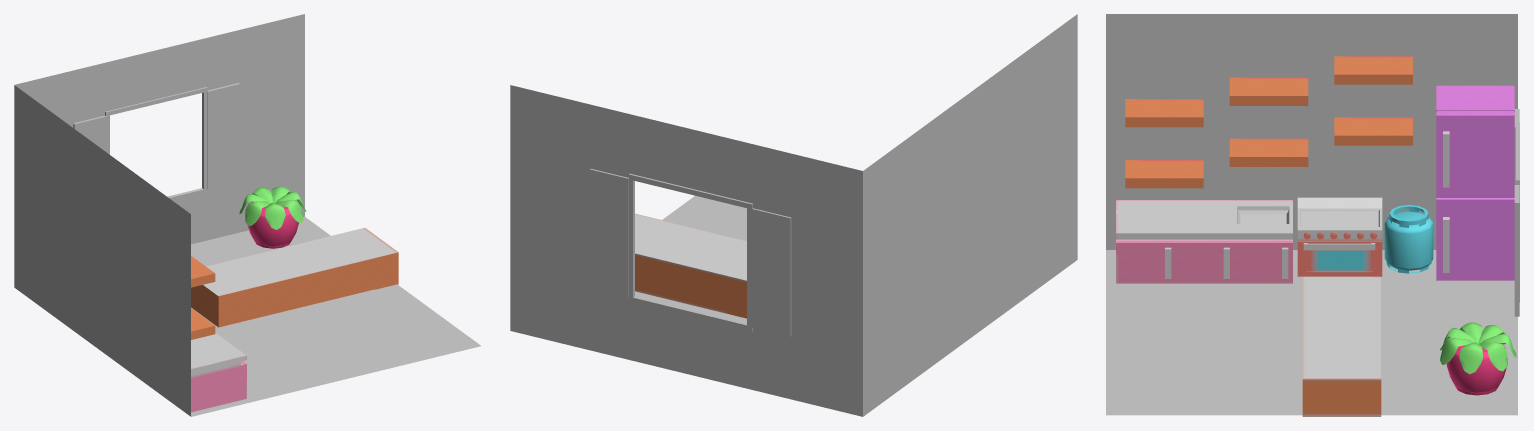
File: Cenário_final.fbx
The picture shows the model from 3 angles, left to right: view 1: azimuth 30°, elevation 25°; view 2: azimuth 150°, elevation 25°; view 3: azimuth 270°, elevation 25°; orthographic projection. The views are drawn at different scales.
Parts seen in each view (by area): view 1: Chão, esteira, Tapete, Portas, quadro, pia, Planta, janela, Vaso, Prateiras; view 2: Chão, Portas, esteira, janela, Tapete; view 3: Chão, Tapete, Geladeira, pia, Prateiras, esteira, Fogão, Gaz, Planta, Fogão tampa, Vaso, Portas (+4 smaller).
Boxes of the visible parts, left/top/right/bottom form: Chão: left=14, top=14, right=480, bottom=416; esteira: left=191, top=227, right=398, bottom=327; Tapete: left=191, top=238, right=435, bottom=380; Portas: left=73, top=83, right=239, bottom=189; quadro: left=253, top=70, right=289, bottom=177; pia: left=191, top=333, right=246, bottom=412; Planta: left=239, top=186, right=306, bottom=229; janela: left=105, top=87, right=207, bottom=200; Vaso: left=247, top=201, right=298, bottom=248; Prateiras: left=191, top=256, right=215, bottom=339; Chão: left=510, top=14, right=1077, bottom=416; Portas: left=589, top=168, right=791, bottom=336; esteira: left=635, top=213, right=746, bottom=318; janela: left=629, top=173, right=752, bottom=331; Tapete: left=635, top=202, right=746, bottom=323; Chão: left=1106, top=14, right=1517, bottom=415; Tapete: left=1158, top=292, right=1466, bottom=401; Geladeira: left=1436, top=85, right=1514, bottom=280; pia: left=1116, top=200, right=1292, bottom=283; Prateiras: left=1125, top=56, right=1412, bottom=188; esteira: left=1302, top=276, right=1381, bottom=416; Fogão: left=1297, top=197, right=1382, bottom=276; Gaz: left=1384, top=205, right=1433, bottom=273; Planta: left=1440, top=322, right=1516, bottom=374; Fogão tampa: left=1297, top=241, right=1381, bottom=274; Vaso: left=1446, top=343, right=1507, bottom=395; Portas: left=1514, top=109, right=1519, bottom=316.
Size of the model in its own units: 1000 by 666 by 1053.
